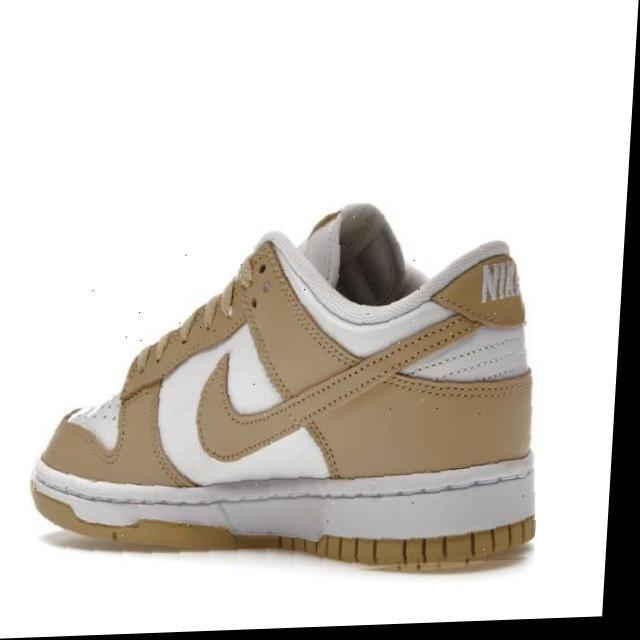J1_ShoeLogo: (29, 201, 537, 571)
J1_StitchPattern: (194, 256, 526, 470), (29, 457, 538, 570), (30, 465, 535, 511), (119, 246, 268, 399), (277, 513, 537, 570), (400, 332, 528, 381), (299, 416, 341, 479), (478, 257, 520, 305)
